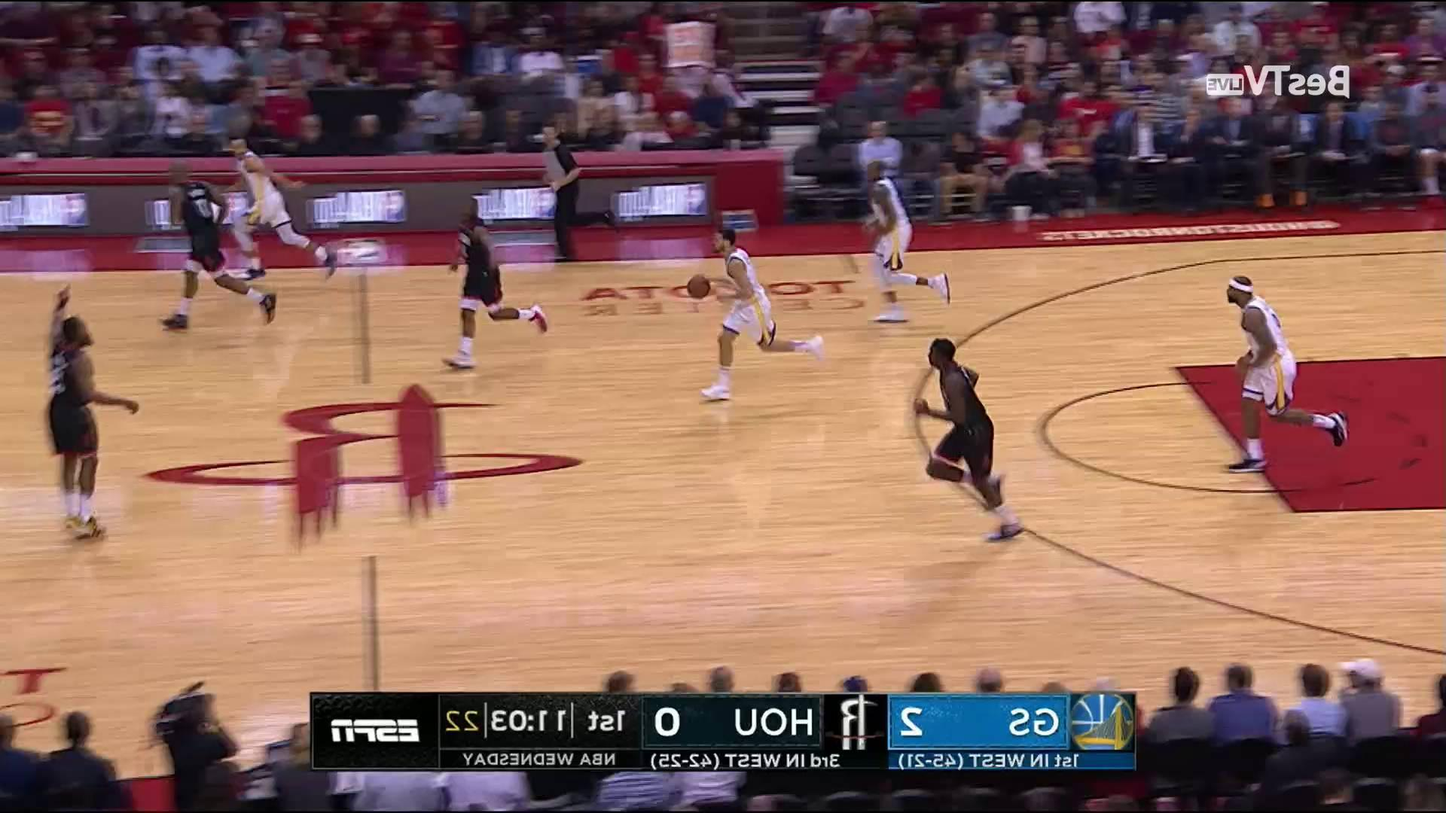basketball: (686, 272, 711, 299)
